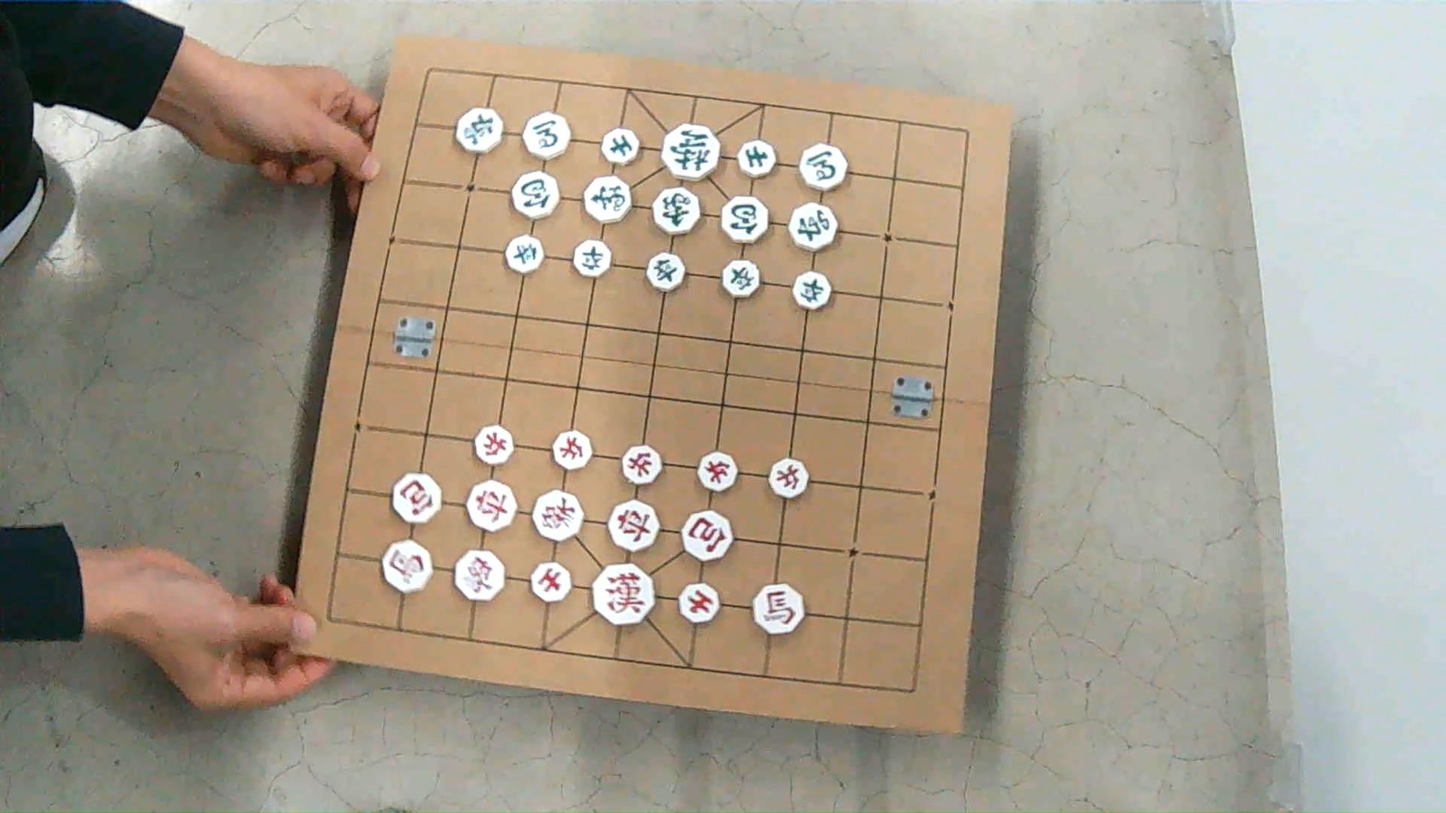cha_green: (789, 202, 839, 251), (456, 108, 502, 154)
cha_red: (466, 480, 517, 531), (609, 500, 659, 550)
jol_green: (647, 252, 685, 291), (504, 236, 543, 273), (573, 240, 611, 277), (722, 260, 760, 297), (794, 272, 831, 309)
jol_red: (473, 425, 514, 465), (621, 445, 662, 485), (770, 458, 809, 498), (553, 430, 592, 470), (698, 452, 737, 491)
ma_green: (523, 112, 570, 160), (799, 144, 847, 190)
ma_red: (381, 540, 435, 592), (753, 583, 804, 633)
po_green: (721, 196, 769, 243), (511, 172, 559, 218)
po_red: (682, 510, 732, 561), (392, 473, 441, 523)
sa_green: (737, 139, 776, 178), (600, 127, 640, 165)
sa_red: (678, 583, 719, 623), (530, 562, 572, 601)
sang_green: (652, 187, 700, 235), (584, 176, 631, 223)
sang_red: (453, 550, 505, 601), (533, 490, 584, 540)
wang_green: (661, 123, 720, 180)
wang_red: (591, 562, 654, 625)
